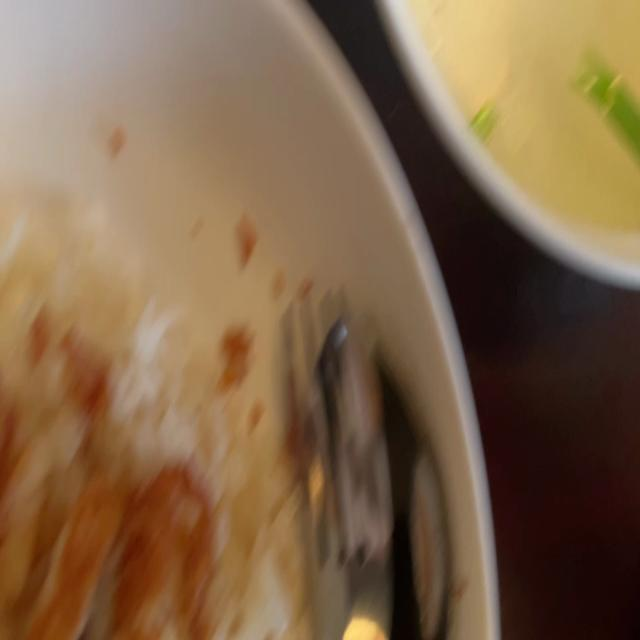chicken_rice: (0, 159, 348, 640)
fried_chicken: (0, 319, 211, 638)
